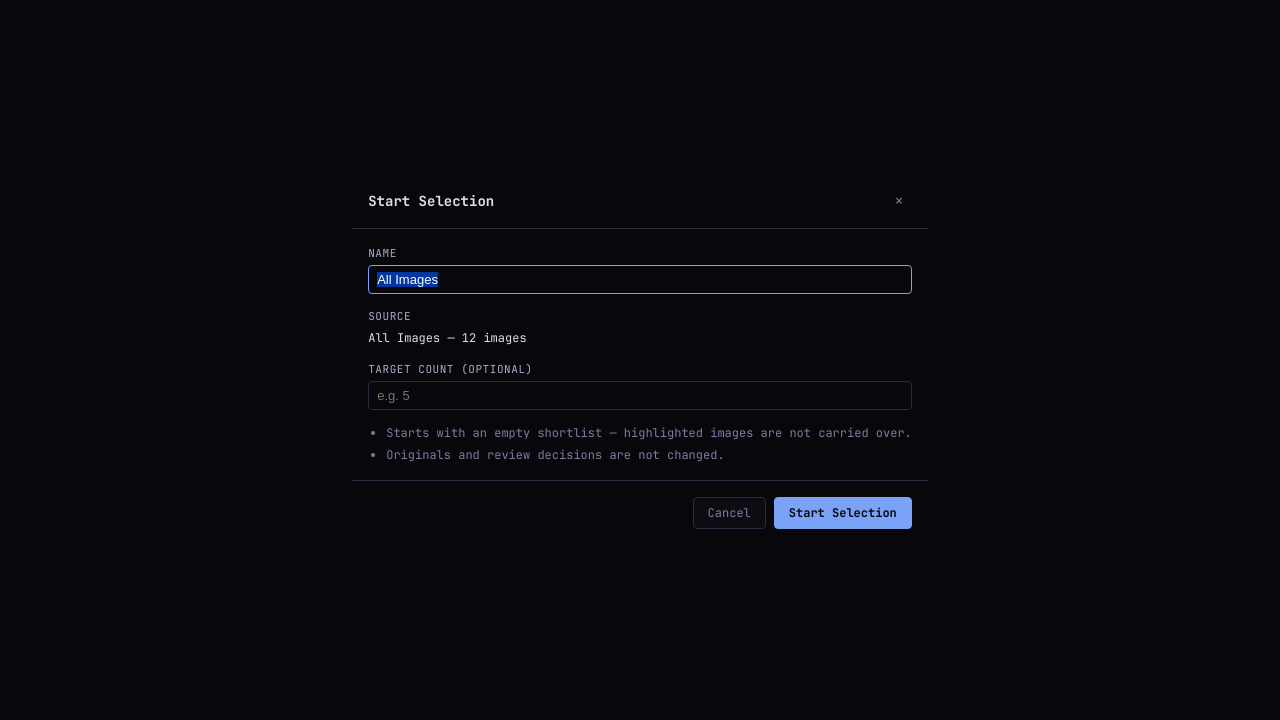
Test: SelectionStartDialog rendered behavior › rejects zero, negative, and fractional targets and disables Start
The width and height of the screenshot is (1280, 720).
Expected: the button "Start Selection" is enabled, [774,497,912,529]
In the number field: (640, 396) [368,381,912,410], type "2.5"
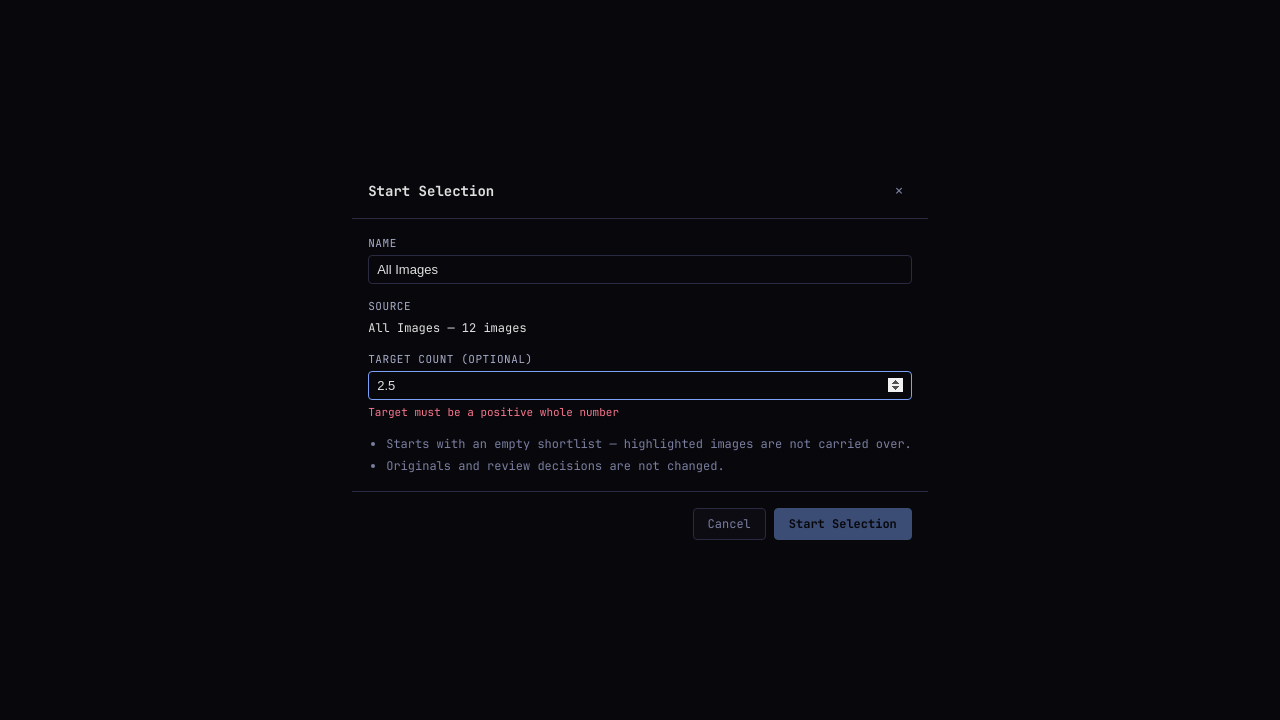
Expected: the text "Target must be a positive whole number" is shown, [368,405,619,419]
Expected: the button "Start Selection" is disabled, [774,508,912,540]
Clear the number field: (640, 386) [368,371,912,400]
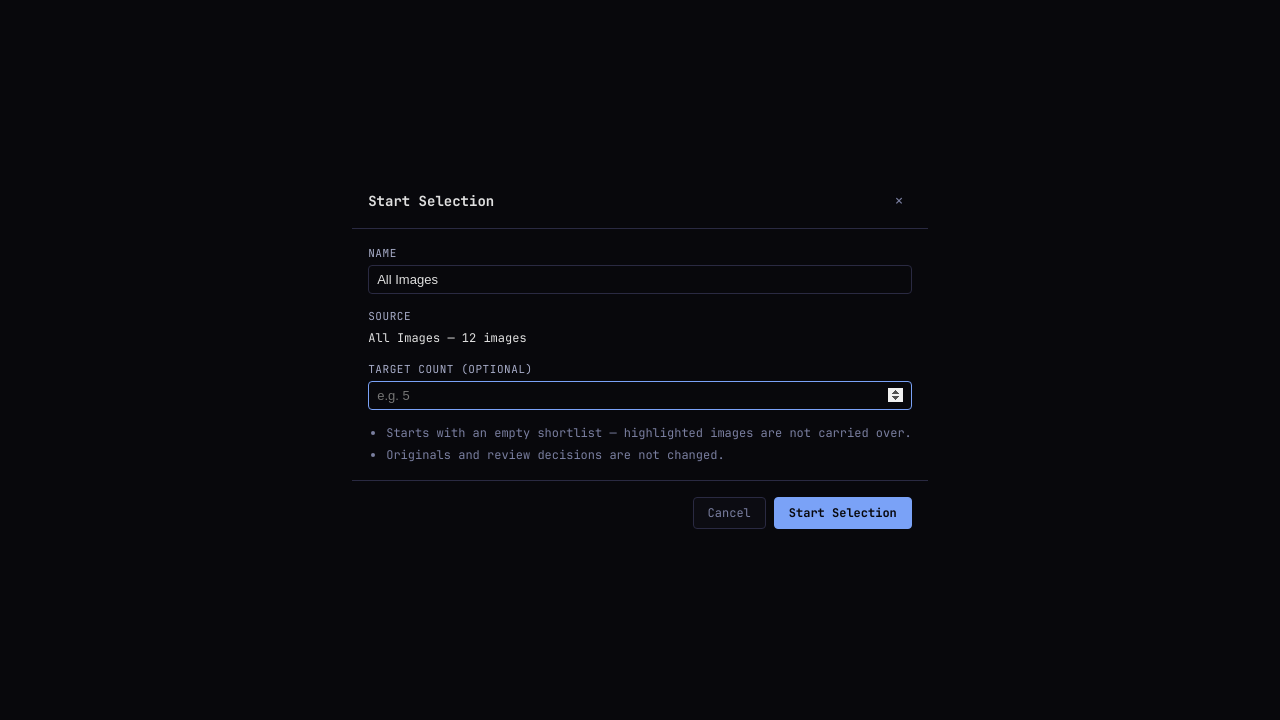
In the number field: (640, 396) [368,381,912,410], type "0"
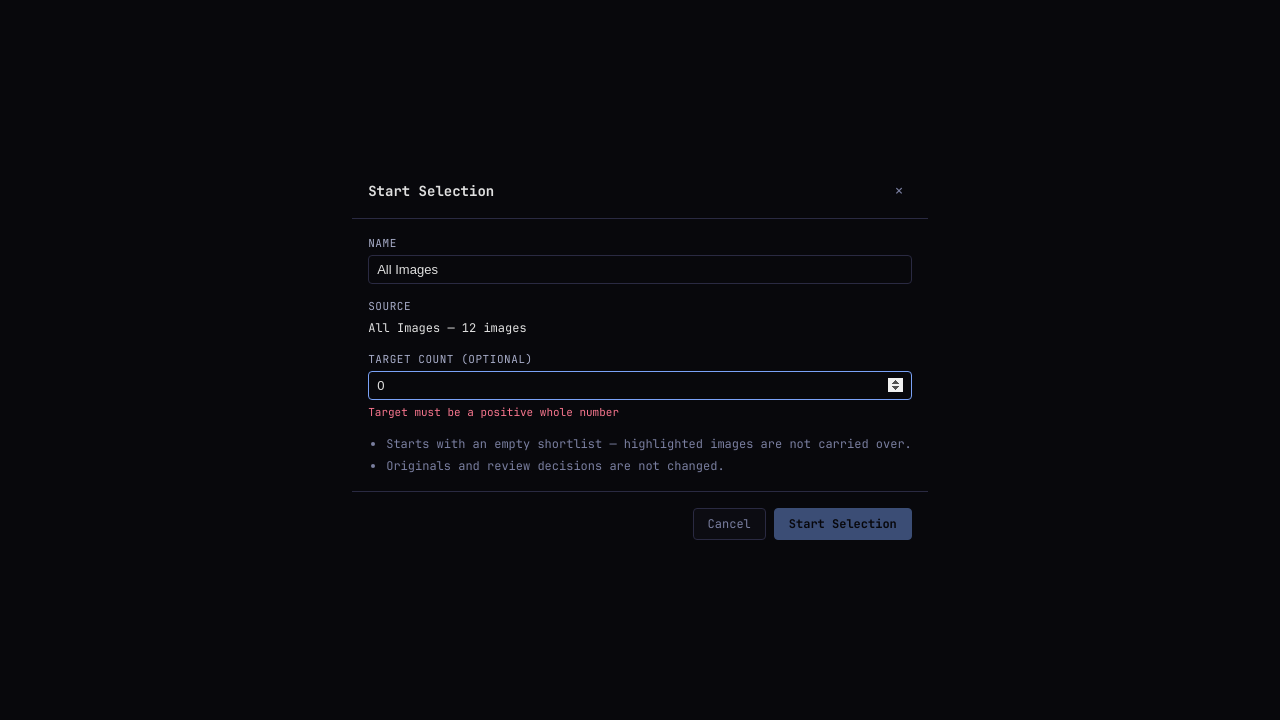
Expected: the text "Target must be a positive whole number" is shown, [368,405,619,419]
Clear the number field: (640, 386) [368,371,912,400]
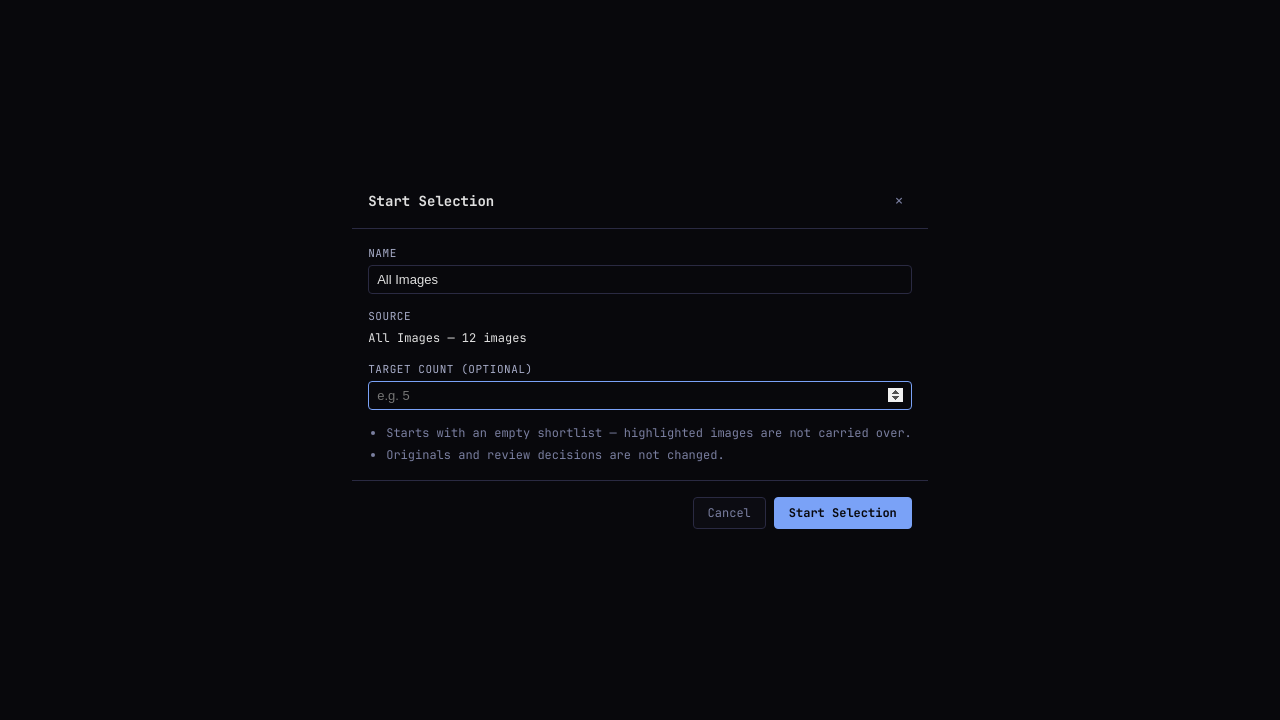
In the number field: (640, 396) [368,381,912,410], type "-3"
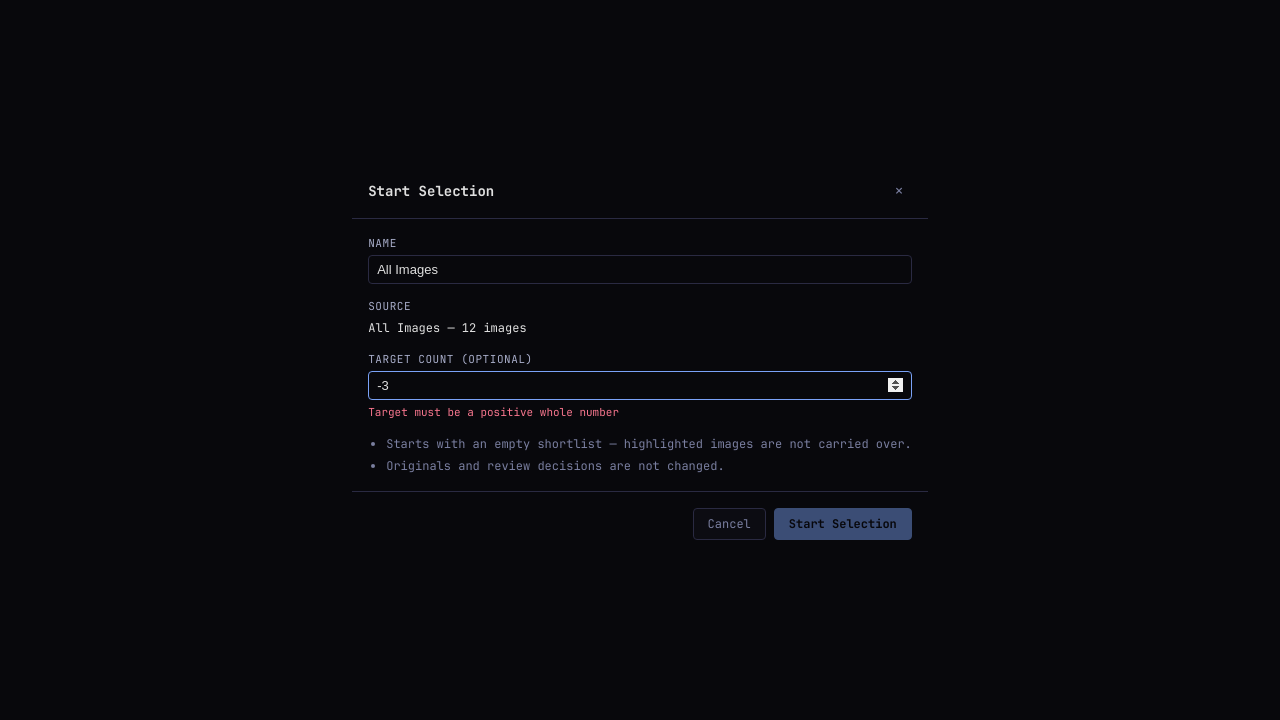
Expected: the text "Target must be a positive whole number" is shown, [368,405,619,419]
Expected: the button "Start Selection" is disabled, [774,508,912,540]
